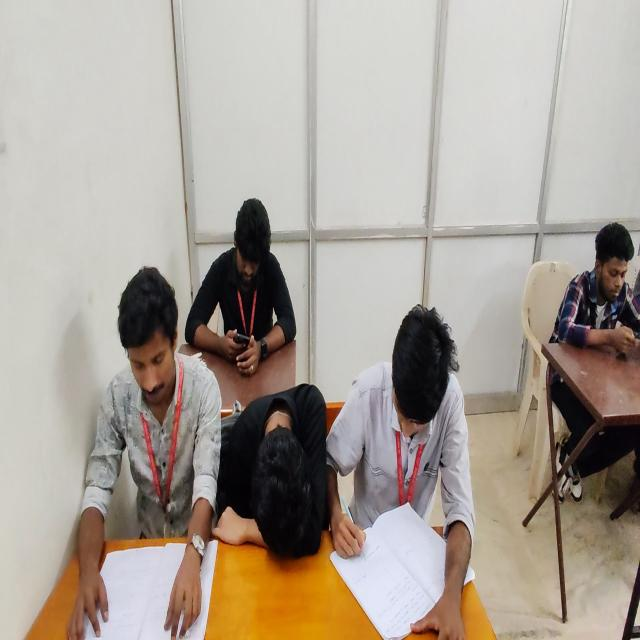listening: (72, 266, 223, 640)
sleeping: (217, 382, 324, 555)
using_mobile: (545, 221, 639, 510), (183, 196, 298, 373)
writing: (340, 301, 476, 640)
